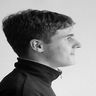ear: (26, 34, 48, 56)
